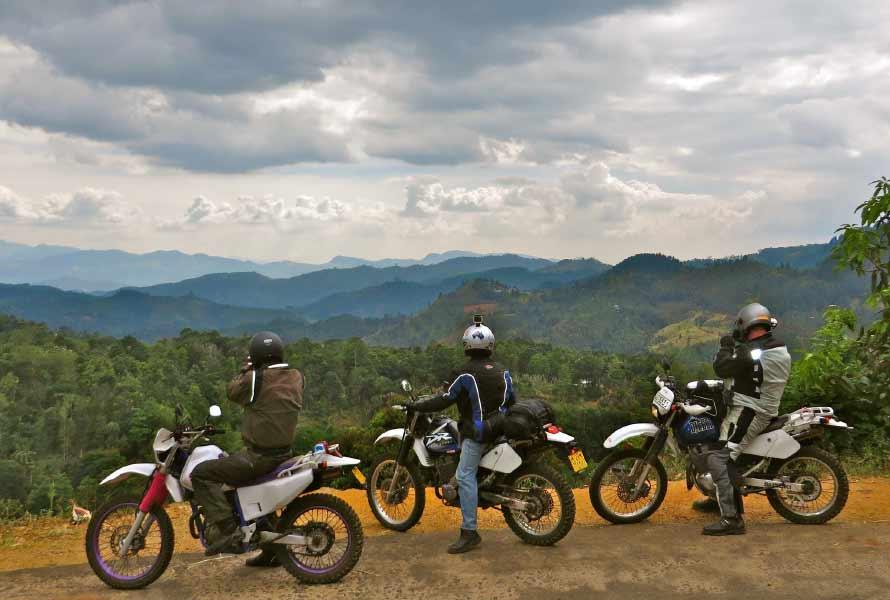motorbike: (85, 404, 367, 588), (589, 356, 849, 525), (368, 379, 587, 545)
